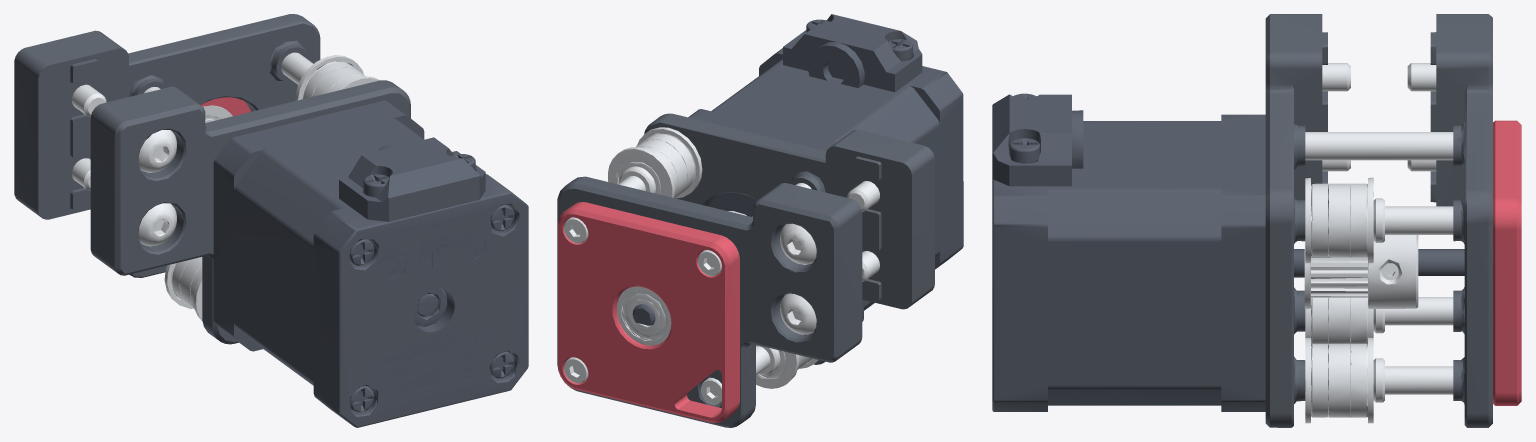
The picture shows the model from 3 angles, left to right: view 1: azimuth 30°, elevation 25°; view 2: azimuth 150°, elevation 25°; view 3: azimuth 270°, elevation 25°; orthographic projection. The views are drawn at different scales.
Visible parts, largest first — view 1: nema17_motor_15, AWD前电机座【B版本】-左, AWD前电机座【B版本】-左_1, M5x12-圆头, M5x12-圆头_26, 轴承-F695ZZ_5, M5x12-圆头_28, 轴承-F695ZZ_13, 非标轴承柱, 轴承-695ZZ_12, 轴承-695ZZ, AB电机盖-带缺口 (+1 smaller); view 2: AB电机盖-带缺口, nema17_motor_15, AWD前电机座【B版本】-左, AWD前电机座【B版本】-左_1, 轴承-F695ZZ_30, 轴承-F695ZZ_5, 轴承-F695ZZ, M5x12-圆头_27, M5x12-圆头_28, 轴承-F695ZZ_13, 轴承-695ZZ, 非标轴承柱 (+8 smaller); view 3: nema17_motor_15, AWD前电机座【B版本】-左, AWD前电机座【B版本】-左_1, AB电机盖-带缺口, 同步轮2GT-9-20T, 非标空心柱, 非标轴承柱_6, 非标轴承柱, 非标轴承柱_10, 轴承-F695ZZ_5, 轴承-F695ZZ_9, 轴承-F695ZZ_7 (+9 smaller).
Part boxes in pixels (x1,y1,x2,y2): nema17_motor_15: (213, 100, 528, 427); AWD前电机座【B版本】-左: (14, 14, 320, 277); AWD前电机座【B版本】-左_1: (90, 80, 410, 344); M5x12-圆头: (138, 203, 176, 246); M5x12-圆头_26: (138, 130, 176, 172); 轴承-F695ZZ_5: (295, 55, 363, 100); M5x12-圆头_28: (72, 84, 106, 117); 轴承-F695ZZ_13: (164, 260, 192, 308); 非标轴承柱: (281, 52, 313, 84); 轴承-695ZZ_12: (180, 257, 202, 309); 轴承-695ZZ: (312, 67, 365, 96); AB电机盖-带缺口: (201, 97, 250, 115); AB电机盖-带缺口: (558, 202, 739, 422); nema17_motor_15: (632, 14, 963, 325); AWD前电机座【B版本】-左: (557, 176, 862, 427); AWD前电机座【B版本】-左_1: (644, 113, 934, 364); 轴承-F695ZZ_30: (617, 286, 671, 345); 轴承-F695ZZ_5: (608, 146, 677, 197); 轴承-F695ZZ: (637, 127, 702, 198); M5x12-圆头_27: (780, 293, 816, 334); M5x12-圆头_28: (780, 223, 816, 264); 轴承-F695ZZ_13: (756, 350, 802, 388); 轴承-695ZZ: (635, 139, 687, 198); 非标轴承柱: (618, 166, 655, 193); nema17_motor_15: (992, 94, 1464, 411); AWD前电机座【B版本】-左: (1430, 14, 1492, 427); AWD前电机座【B版本】-左_1: (1265, 14, 1327, 427); AB电机盖-带缺口: (1493, 120, 1521, 405); 同步轮2GT-9-20T: (1304, 235, 1418, 308); 非标空心柱: (1305, 132, 1453, 160); 非标轴承柱_6: (1373, 358, 1453, 402); 非标轴承柱: (1373, 198, 1453, 242); 非标轴承柱_10: (1373, 297, 1453, 333); 轴承-F695ZZ_5: (1351, 177, 1373, 263); 轴承-F695ZZ_9: (1351, 337, 1373, 423); 轴承-F695ZZ_7: (1305, 338, 1327, 423).
Size of the model in its own units: 0.0654 by 0.0525 by 0.093.
